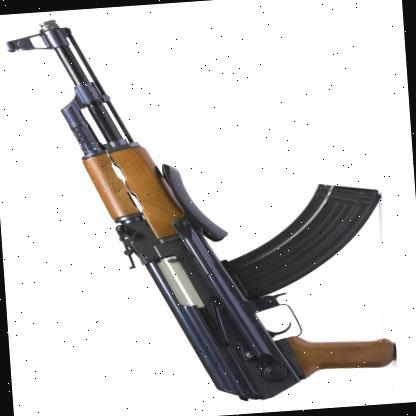rifle: (14, 22, 415, 416)
